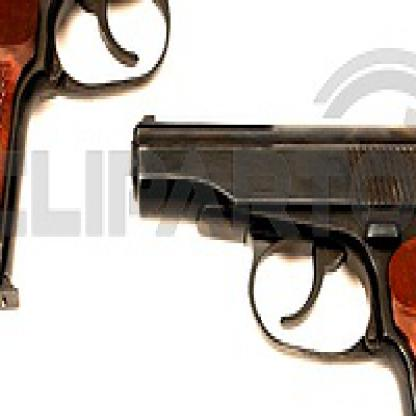gun: (0, 0, 283, 323), (143, 99, 414, 413)
